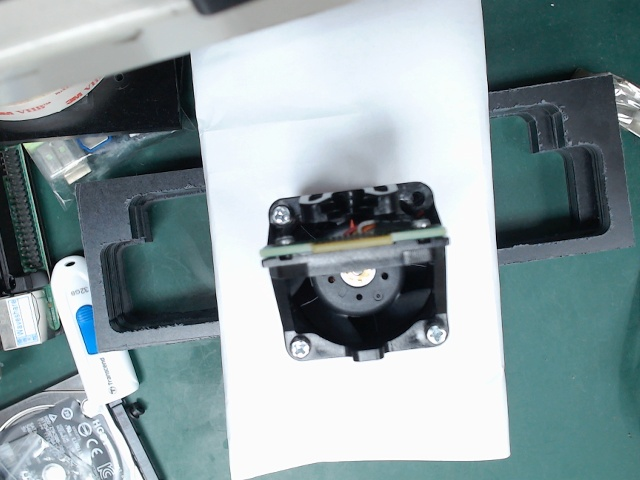Phase1_screw_loose: (262, 191, 308, 233), (419, 315, 462, 355)
